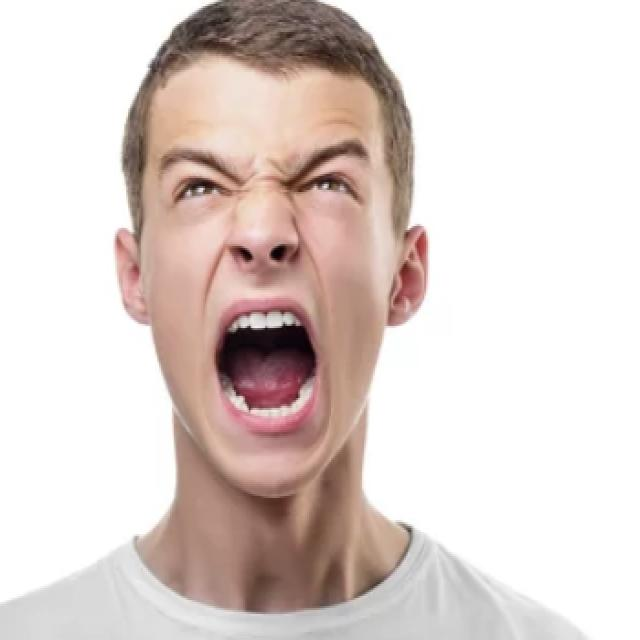angry: (112, 54, 445, 473)
